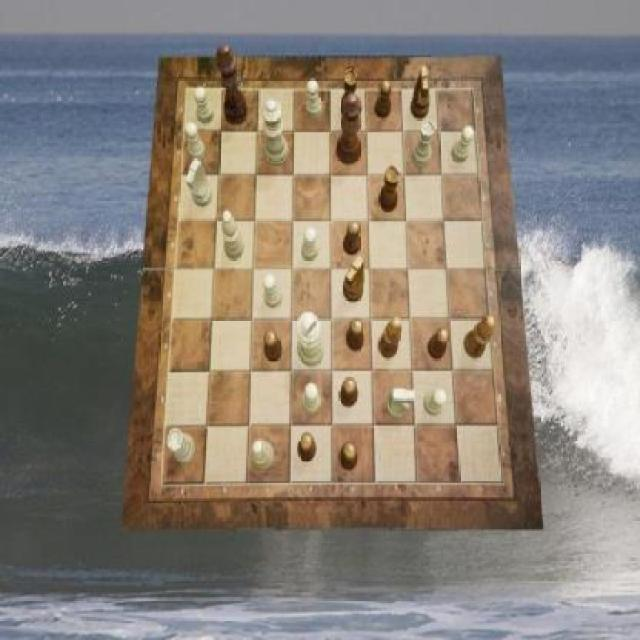bishop: (465, 315, 497, 358), (378, 315, 402, 358)
black-bishop: (217, 44, 249, 124)
black-king: (411, 66, 431, 120), (343, 257, 365, 303)
black-knight: (428, 328, 450, 360), (346, 320, 366, 352), (376, 80, 392, 120), (338, 377, 358, 408), (343, 222, 361, 256), (338, 443, 358, 471), (265, 331, 282, 363), (298, 434, 318, 461)
black-pawn: (337, 94, 363, 166)
black-queen: (378, 166, 399, 212), (340, 69, 358, 120)
black-rook: (221, 211, 244, 260), (252, 440, 276, 472)
white-bishop: (297, 312, 324, 367)
white-king: (184, 158, 212, 208), (388, 388, 415, 418)
white-knight: (451, 125, 474, 162), (186, 123, 206, 162), (194, 86, 214, 124), (306, 80, 323, 120), (424, 389, 448, 417), (263, 272, 282, 307), (302, 228, 319, 262), (302, 383, 319, 415)
white-pawn: (262, 100, 289, 166)
white-queen: (412, 120, 436, 168), (168, 428, 197, 464)
